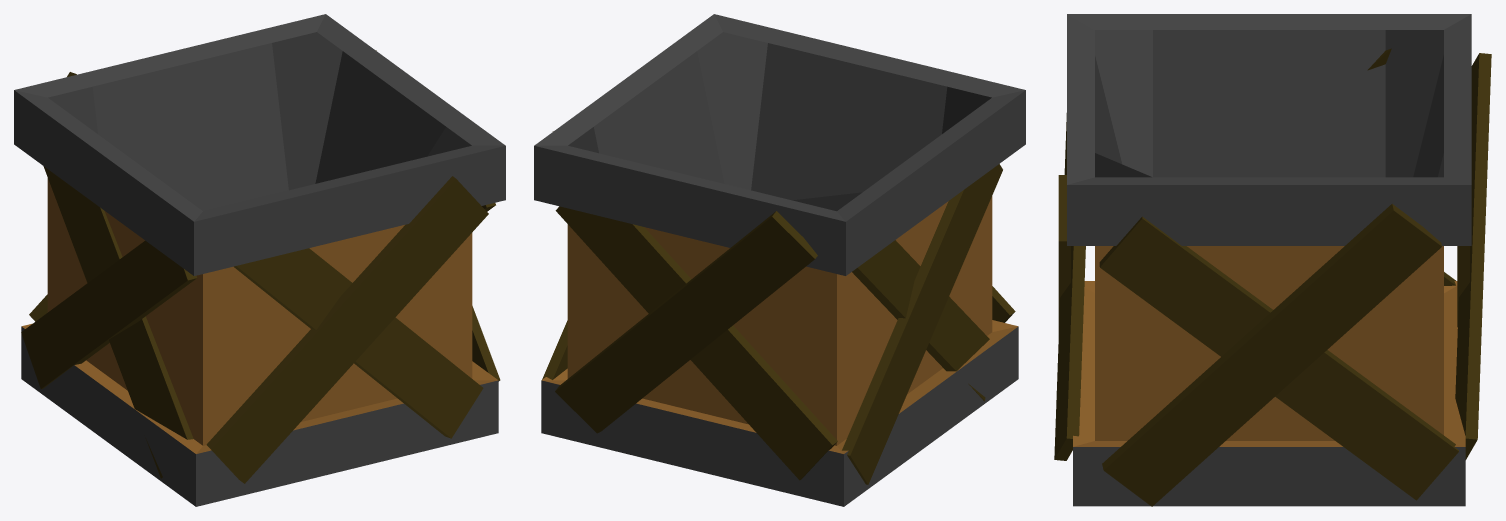
Rendered from crate_empty.fbx.
The picture shows the model from 3 angles, left to right: view 1: azimuth 30°, elevation 25°; view 2: azimuth 150°, elevation 25°; view 3: azimuth 270°, elevation 25°; orthographic projection. The views are drawn at different scales.
Visible parts, largest first — view 1: Cube, Cube.004, Cube.003, Cube.005, Cube.006, Cube.007; view 2: Cube, Cube.002, Cube.001, Cube.005, Cube.006, Cube.008; view 3: Cube, Cube.007, Cube.008, Cube.002, Cube.003, Cube.004, Cube.001.
Part boxes in pixels (x1,y1,x2,y2): Cube: (14,14,505,506); Cube.004: (206,176,488,483); Cube.003: (234,248,483,438); Cube.005: (21,240,196,388); Cube.006: (43,166,193,478); Cube.007: (376,50,500,381); Cube: (534,14,1025,506); Cube.002: (555,211,817,433); Cube.001: (555,206,837,480); Cube.005: (842,164,1002,484); Cube.006: (852,240,989,401); Cube.008: (542,320,567,379); Cube: (1067,14,1471,506); Cube.007: (1102,204,1441,506); Cube.008: (1099,216,1458,500); Cube.002: (1455,53,1491,459); Cube.003: (1054,113,1085,460); Cube.004: (1058,175,1070,334); Cube.001: (1457,246,1469,327).
Bounding box in the file's own units: 818 × 687 × 841.
